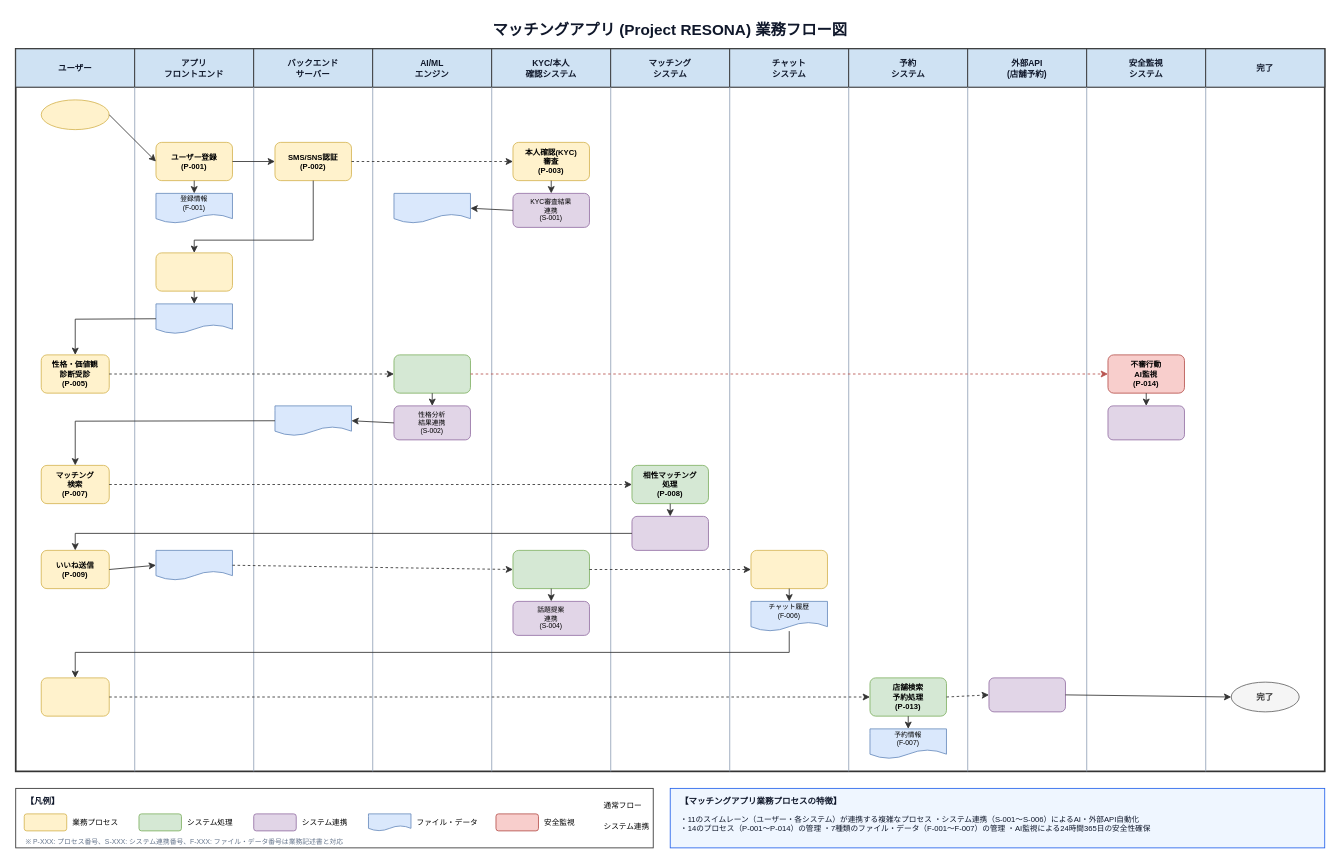
This 1340x863 diagram has some shape labels left out. The shapes that lost their labels are listed below. From the top down, each one's box as (x1, y1, x2, y2) in pixels, then its label:
(40, 99, 109, 130): アプリ利用 開始
(393, 193, 470, 223): 身分証データ (F-002)
(155, 252, 232, 291): プロフィール 作成 (P-004)
(155, 303, 232, 334): プロフィール データ (F-003)
(393, 354, 470, 393): AI性格解析 (P-006)
(274, 405, 351, 436): 性格診断結果 (F-004)
(1107, 405, 1184, 440): 監視アラート 連携 (S-006)
(631, 516, 708, 550): マッチング 結果通知 (S-003)
(155, 550, 232, 580): いいね履歴 (F-005)
(512, 550, 589, 589): LLM対話 アシスタント (P-011)
(750, 550, 827, 589): チャット開始 (P-010)
(40, 677, 109, 716): デート予約 リクエスト (P-012)
(988, 677, 1065, 712): 外部予約API 連携 (S-005)
